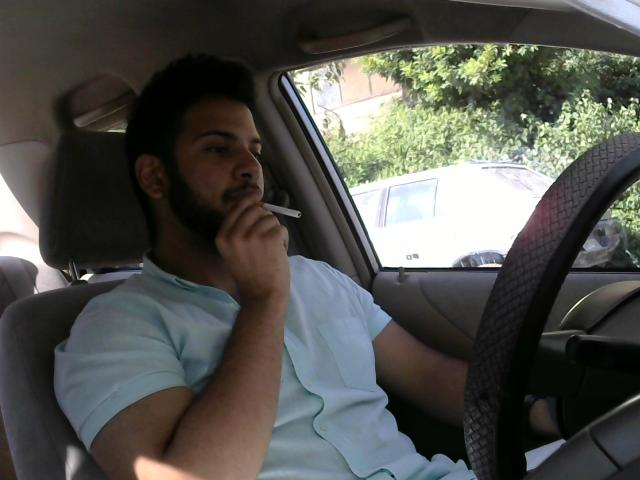Smoking: (243, 196, 306, 223)
